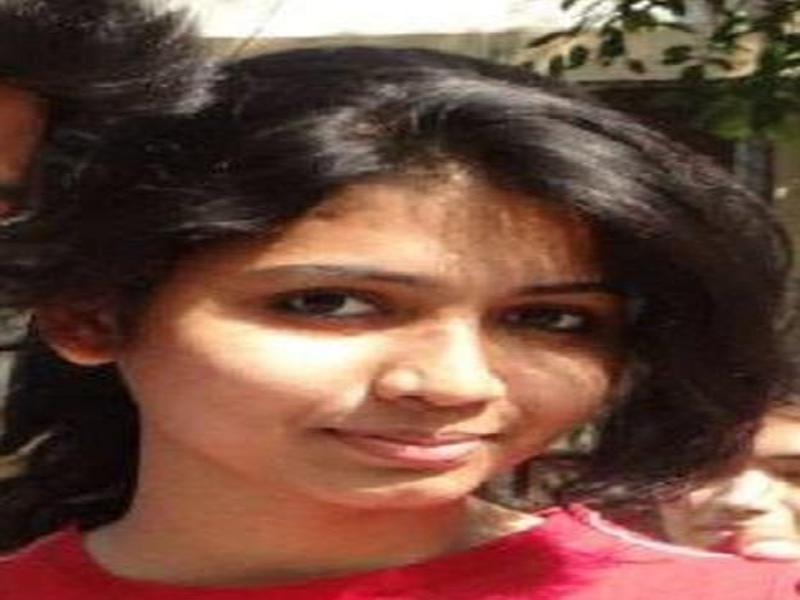without_mask: (134, 212, 617, 514)
